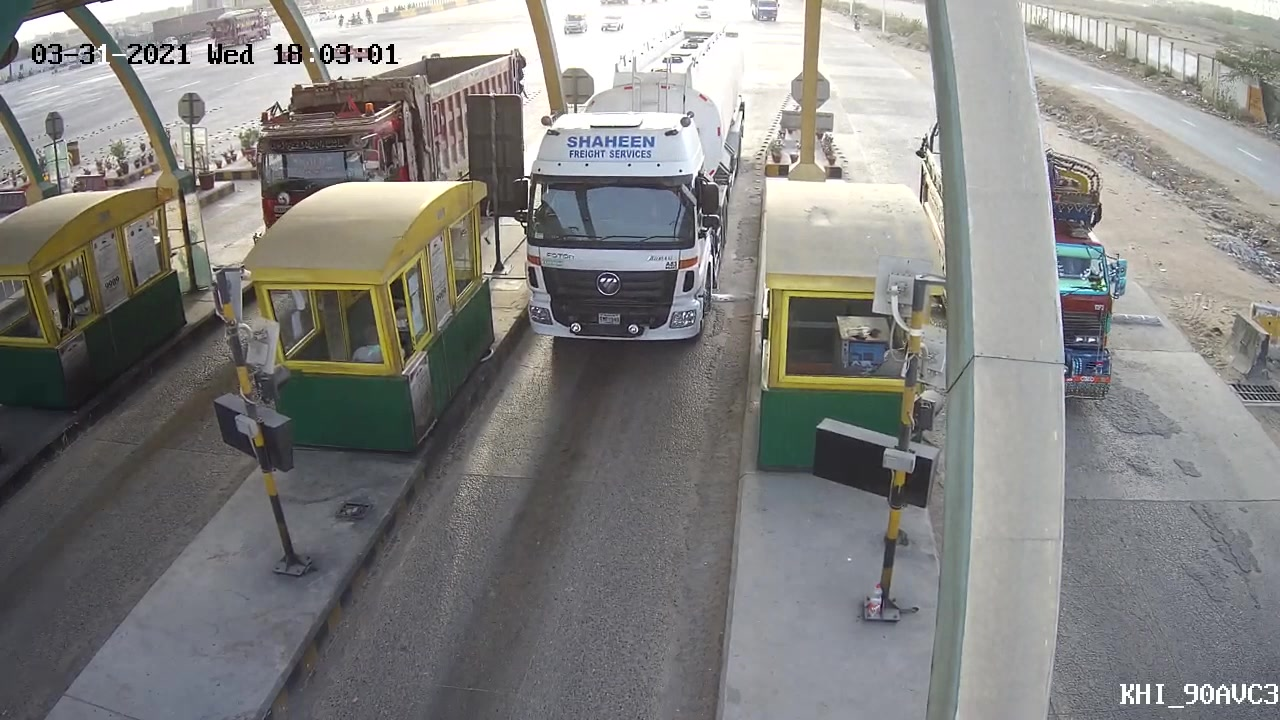F6: (527, 16, 750, 359)
